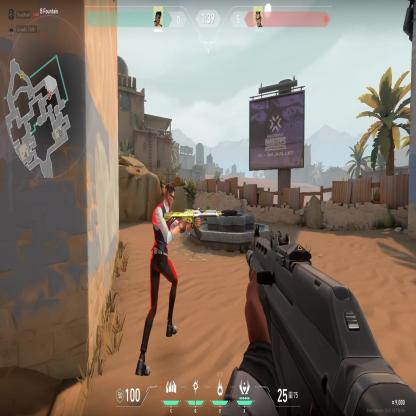enemy: (132, 181, 182, 380)
